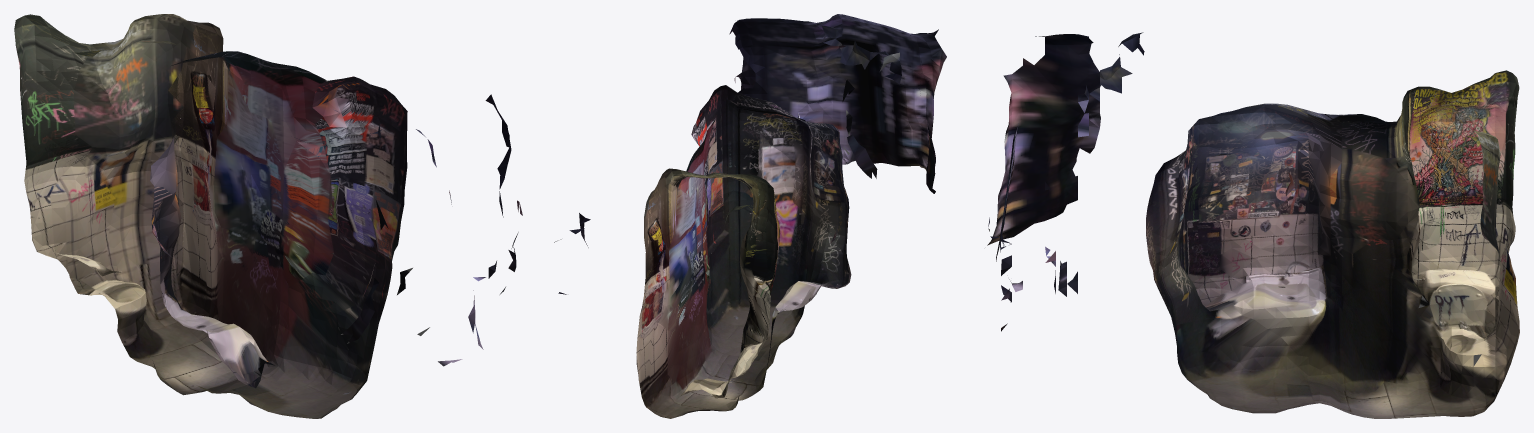
Rendered from Saint Bar fille.glb.
The picture shows the model from 3 angles, left to right: view 1: azimuth 30°, elevation 25°; view 2: azimuth 150°, elevation 25°; view 3: azimuth 270°, elevation 25°; orthographic projection. The views are drawn at different scales.
Visible parts, largest first — view 1: mesh; view 2: mesh; view 3: mesh.
Part boxes in pixels (x1,y1,x2,y2): mesh: (14,14,590,418); mesh: (636,14,946,418); mesh: (987,32,1519,418).
Size of the model in its own units: 2.31 by 2.79 by 3.94.
1 material, 1 textured.
